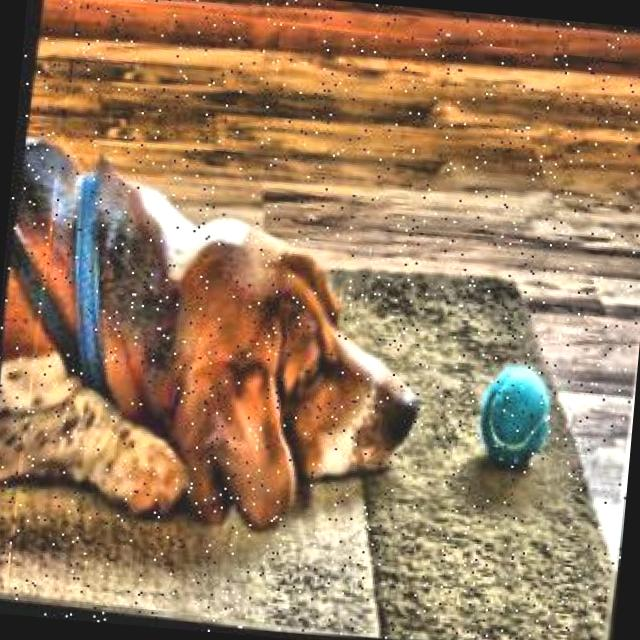Tennis Ball: (466, 360, 555, 479)
